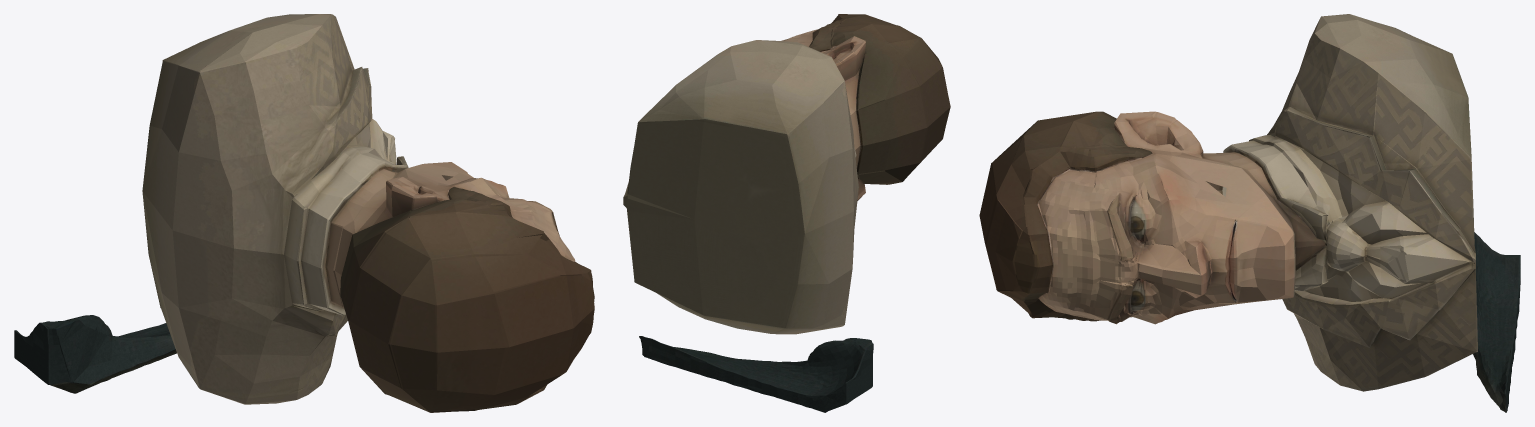
The model's file is tripo_convert_691fc591-e842-4fd6-9fbb-82b75a2ee67c.fbx.
The picture shows the model from 3 angles, left to right: view 1: azimuth 30°, elevation 25°; view 2: azimuth 150°, elevation 25°; view 3: azimuth 270°, elevation 25°; orthographic projection. The views are drawn at different scales.
Parts seen in each view (by area): view 1: tripo_node_691fc591; view 2: tripo_node_691fc591; view 3: tripo_node_691fc591.
Part boxes in pixels (<box>): tripo_node_691fc591: <box>14,14,594,412</box>; tripo_node_691fc591: <box>623,14,950,412</box>; tripo_node_691fc591: <box>979,14,1520,412</box>.
Size of the model in its own units: 0.7241 by 0.7104 by 0.998.
1 material, 1 textured.
